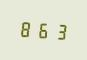eight: (18, 18, 33, 39)
six: (35, 19, 50, 40)
three: (51, 20, 66, 41)
